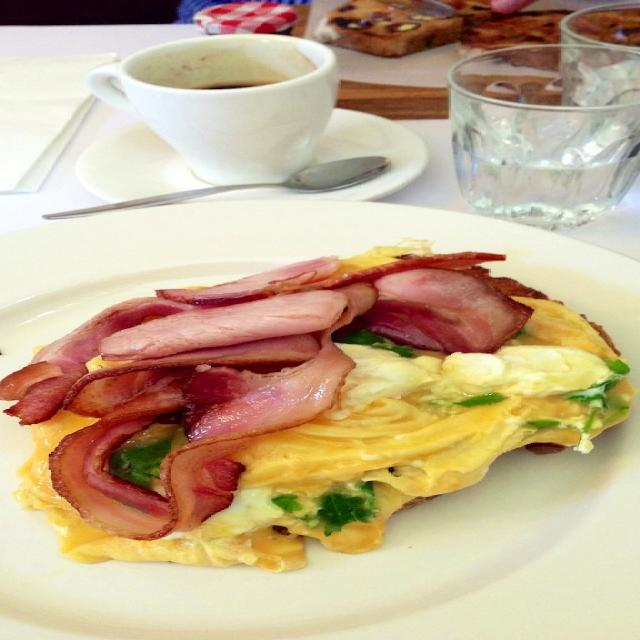Tea: (188, 81, 274, 88)
